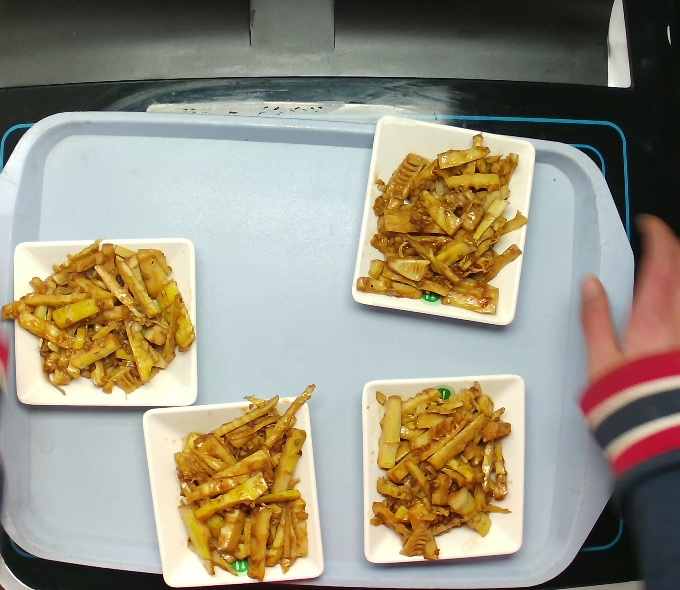wcq-QingChaoChunSun: (4, 229, 195, 409), (170, 385, 328, 580), (367, 380, 516, 563), (368, 134, 521, 310)
